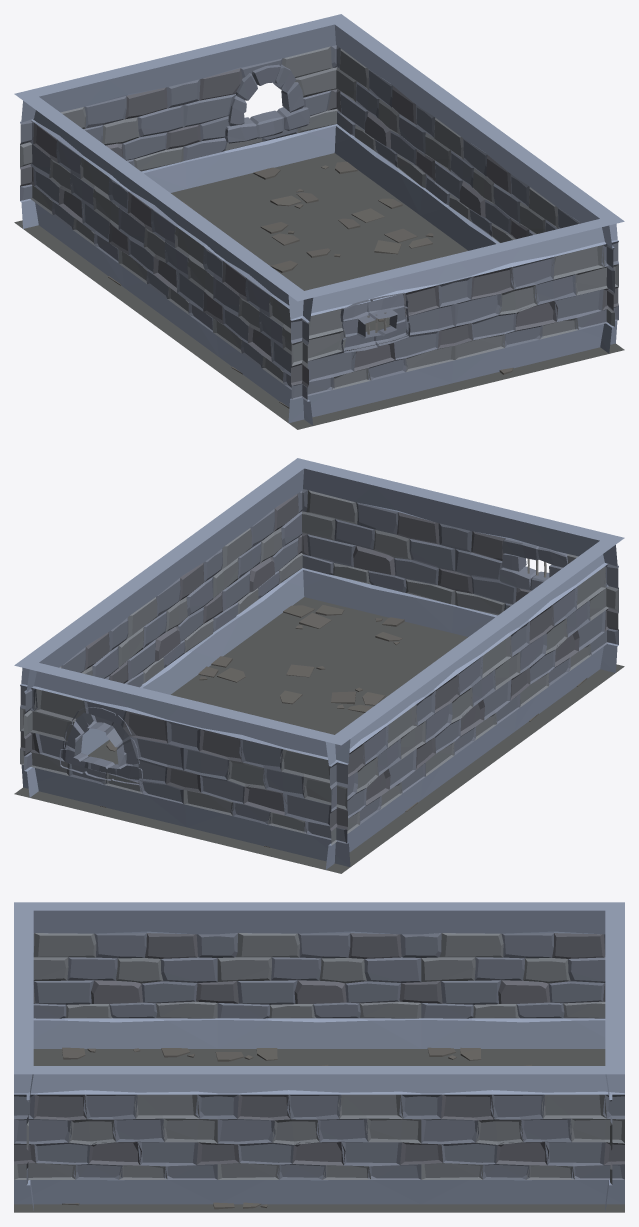
File: IntroductionMapDup.glb
The picture shows the model from 3 angles, top to bottom: view 1: azimuth 30°, elevation 25°; view 2: azimuth 150°, elevation 25°; view 3: azimuth 270°, elevation 25°; orthographic projection. The views are drawn at different scales.
Parts seen in each view (by area): view 1: Walls_Large, Ground_Large; view 2: Walls_Large, Ground_Large; view 3: Walls_Large, Ground_Large.
Boxes of the visible parts, x1,y1,x2,y2 form: Walls_Large: (14, 14, 624, 425); Ground_Large: (14, 153, 624, 429); Walls_Large: (14, 458, 624, 869); Ground_Large: (14, 597, 624, 873); Walls_Large: (14, 902, 624, 1211); Ground_Large: (14, 1047, 624, 1212).
Bounding box in the file's own units: 2 × 0.75 × 3.
13 materials, 13 textured.
